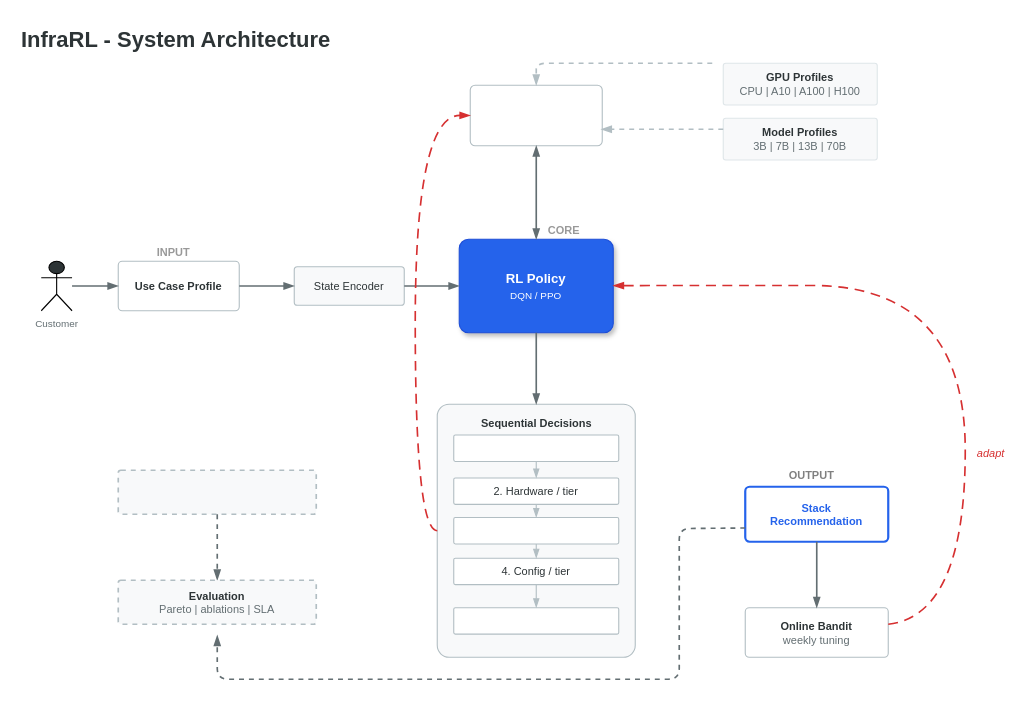
This 1027x707 diagram has some shape labels left out. The shapes that lost their labels are listed below. From the top down, each one's centre as x and y in pixels, then its label:
At (535,115): "Simulator quality / latency / cost".
At (536,447): "1. Architecture".
At (217,492): "Baselines random | heuristic | bandit | Q-learn".
At (536,530): "3. Model / tier".
At (536,620): "5. Scaling policy".
